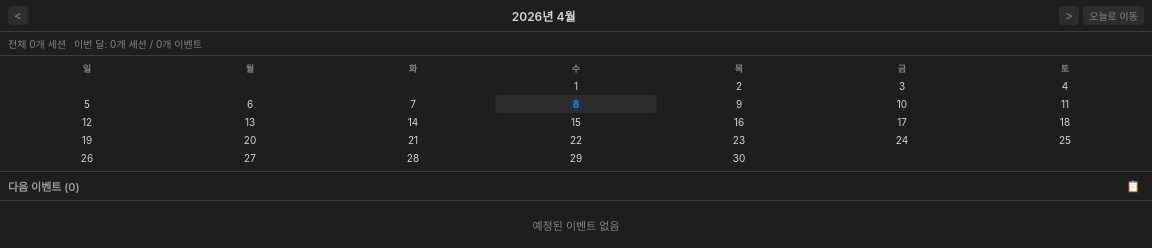
Scenario: CalendarPanel › < 버튼 클릭 시 이전 달로 이동한다
The image size is (1152, 248).
Click the button "<": (18, 16) [8,6,28,25]
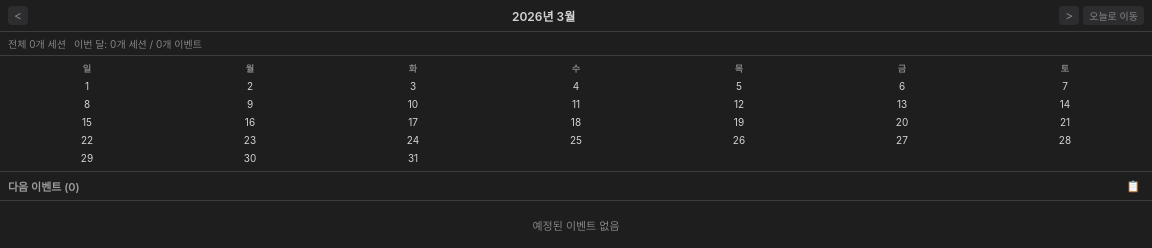
Expected: the text "2026년 3월" is shown, [512,9,575,24]
